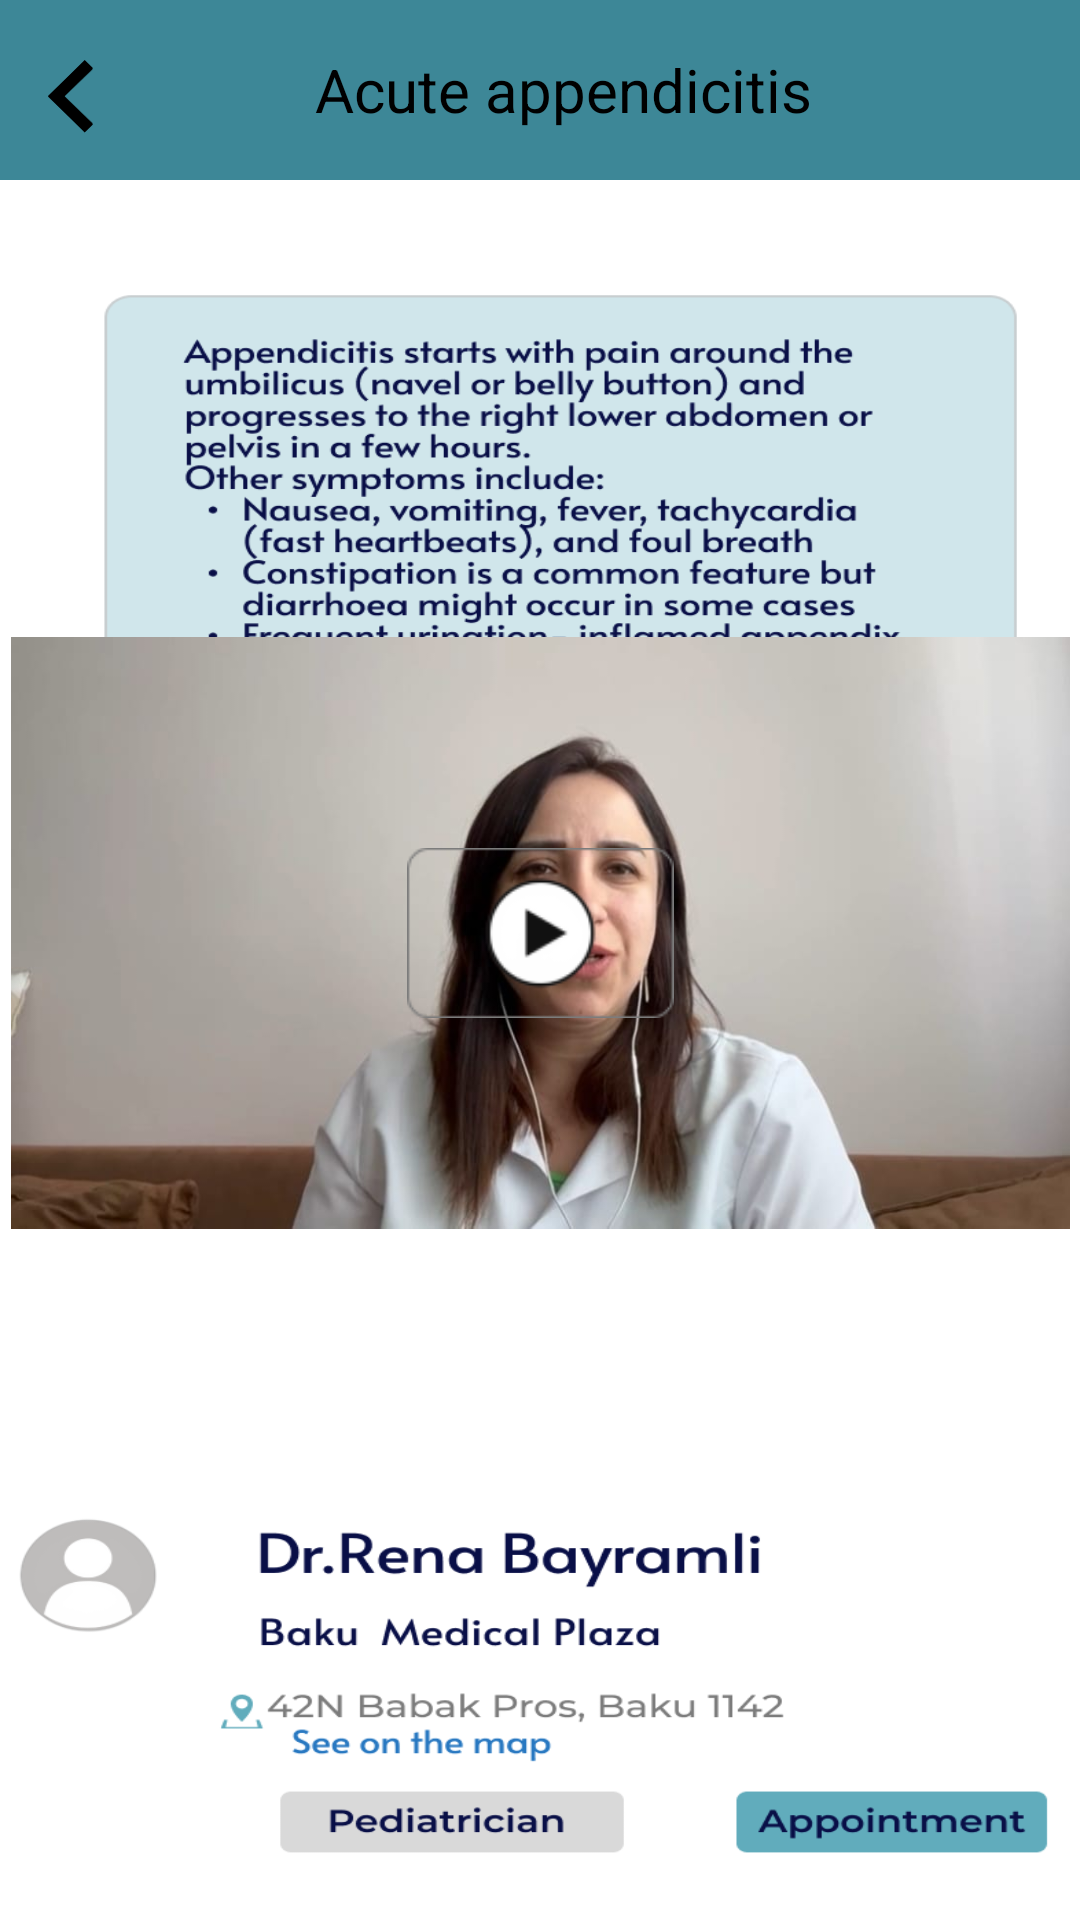

Point at icon controls on the screen. Image size 1080 × 1920, points as (x,y).
back: (70,96)
